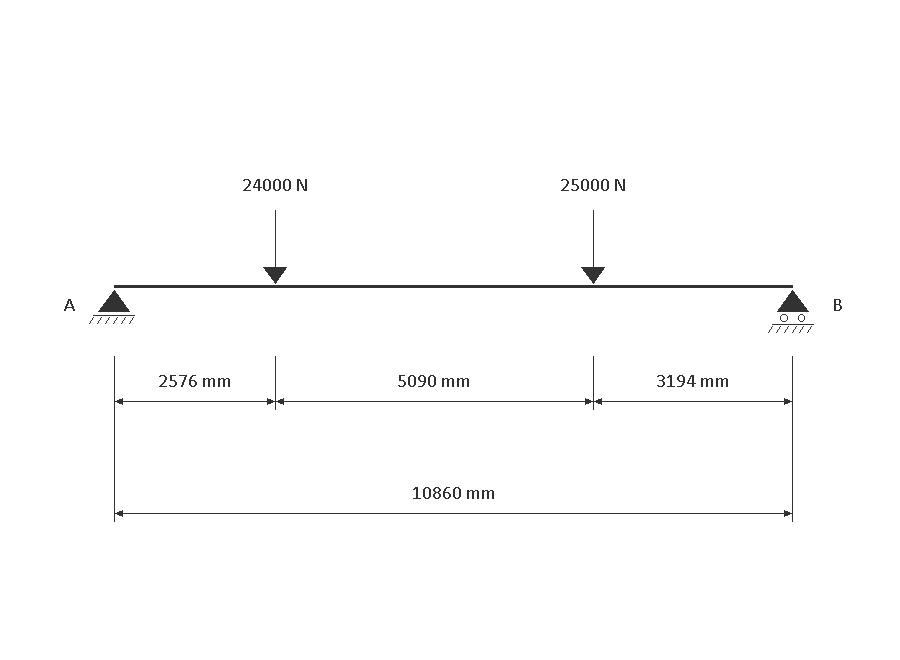pin_support: (89, 290, 135, 324)
point_load: (263, 210, 287, 284), (581, 210, 605, 284)
roller_support: (768, 290, 814, 333)
